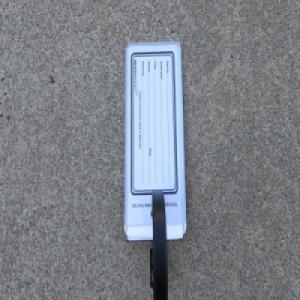LuggageTag: (122, 40, 189, 300)
